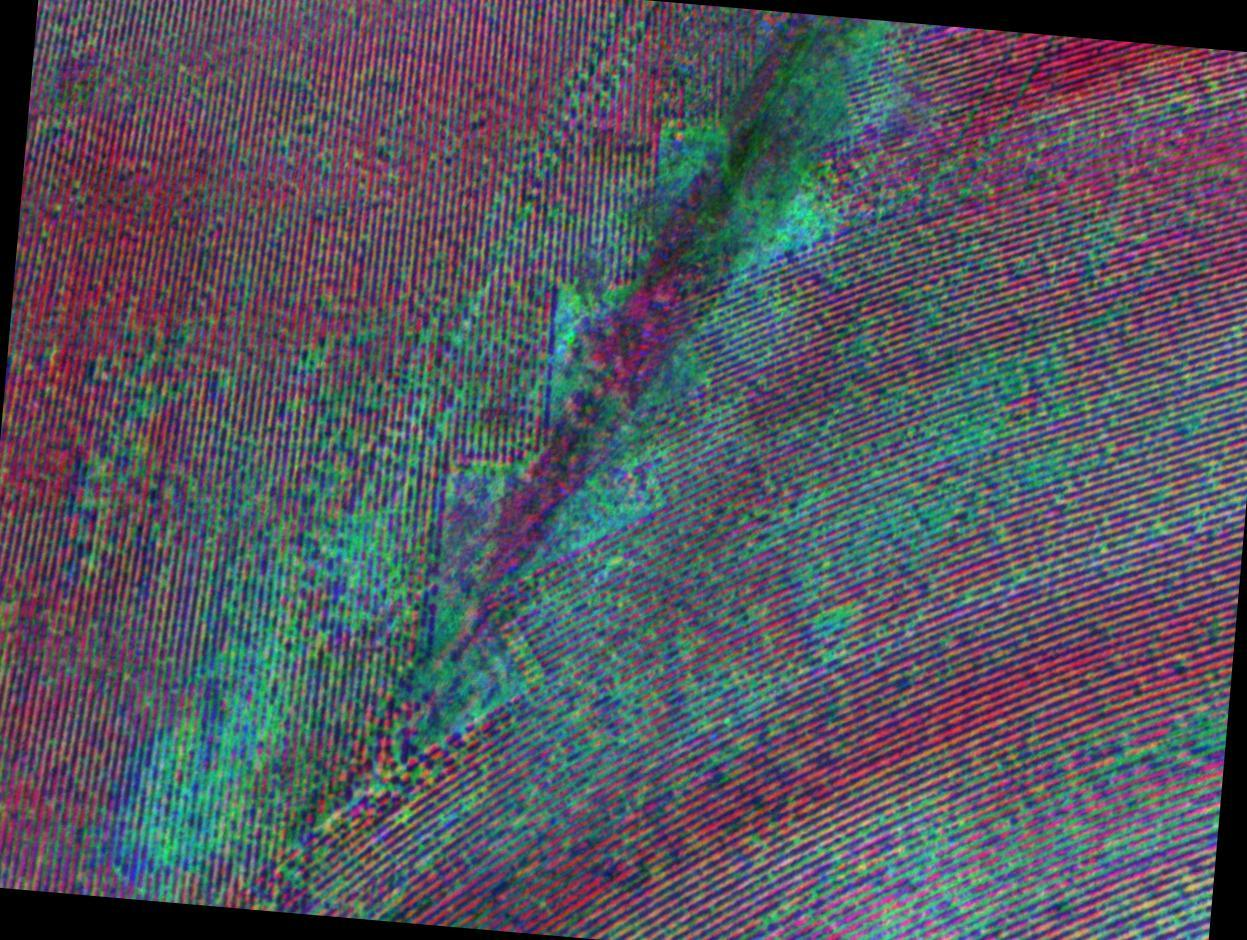dc: (888, 398, 1008, 531), (143, 733, 254, 872), (748, 165, 831, 258), (343, 500, 404, 611), (588, 475, 655, 544)
